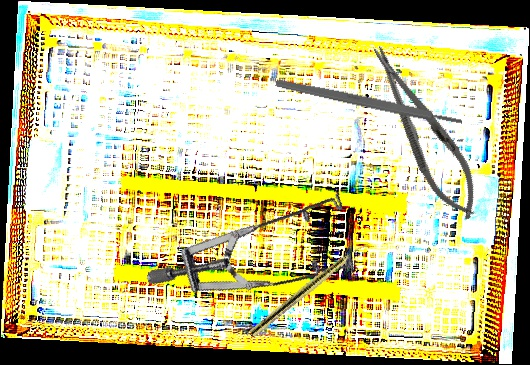Handpiece: (248, 238, 370, 339)
Needle Holder: (357, 36, 493, 228)
Scalpel Handle: (274, 77, 464, 128)
Speculum: (145, 140, 377, 348)
